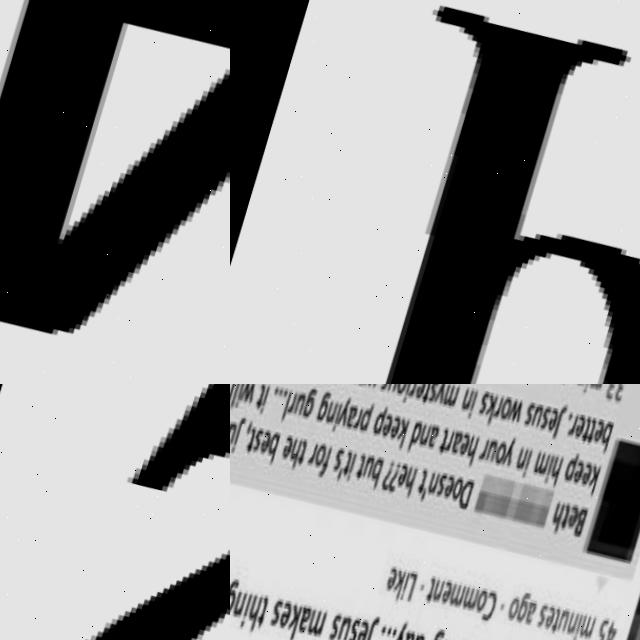0: (601, 623, 619, 640)
1: (594, 621, 610, 640)
2: (0, 384, 230, 640)
Q: (284, 0, 640, 384)
